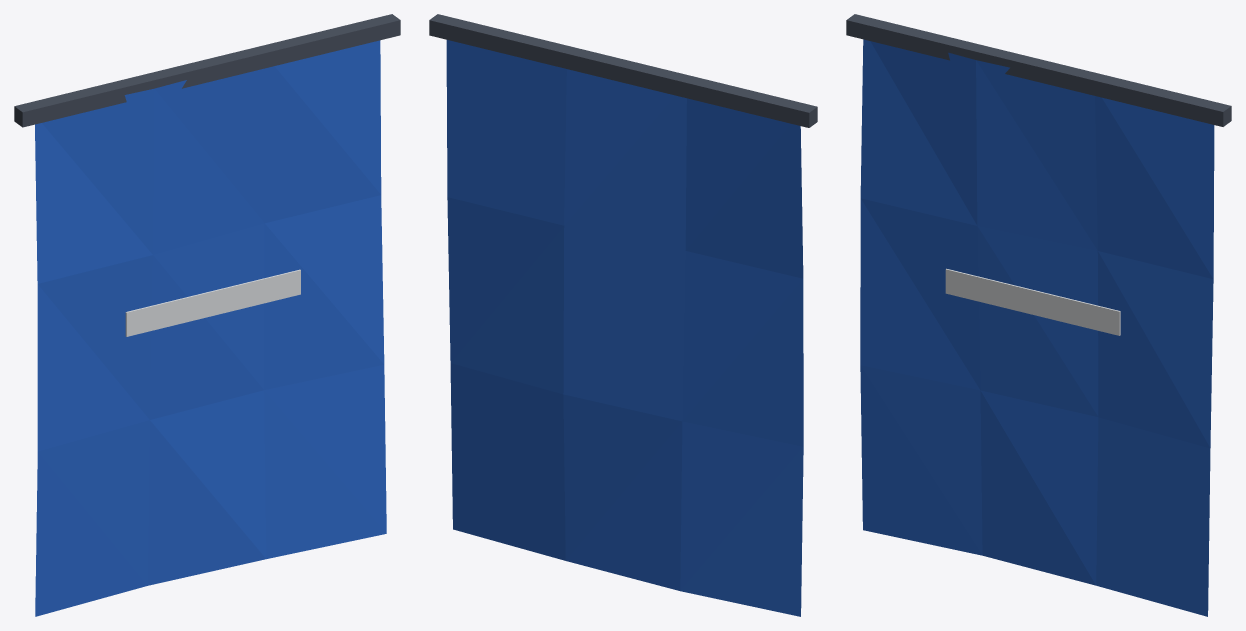
Rendered from team_banner_blue.glb.
The picture shows the model from 3 angles, left to right: view 1: azimuth 30°, elevation 25°; view 2: azimuth 150°, elevation 25°; view 3: azimuth 330°, elevation 25°; orthographic projection.
Visible parts, largest first — view 1: team_banner_blue; view 2: team_banner_blue; view 3: team_banner_blue.
Part boxes in pixels (left/top/right/bottom): team_banner_blue: left=14, top=14, right=400, bottom=616; team_banner_blue: left=429, top=14, right=817, bottom=616; team_banner_blue: left=846, top=14, right=1231, bottom=616.
Size of the model in its own units: 1.3 by 1.68 by 0.0625.
